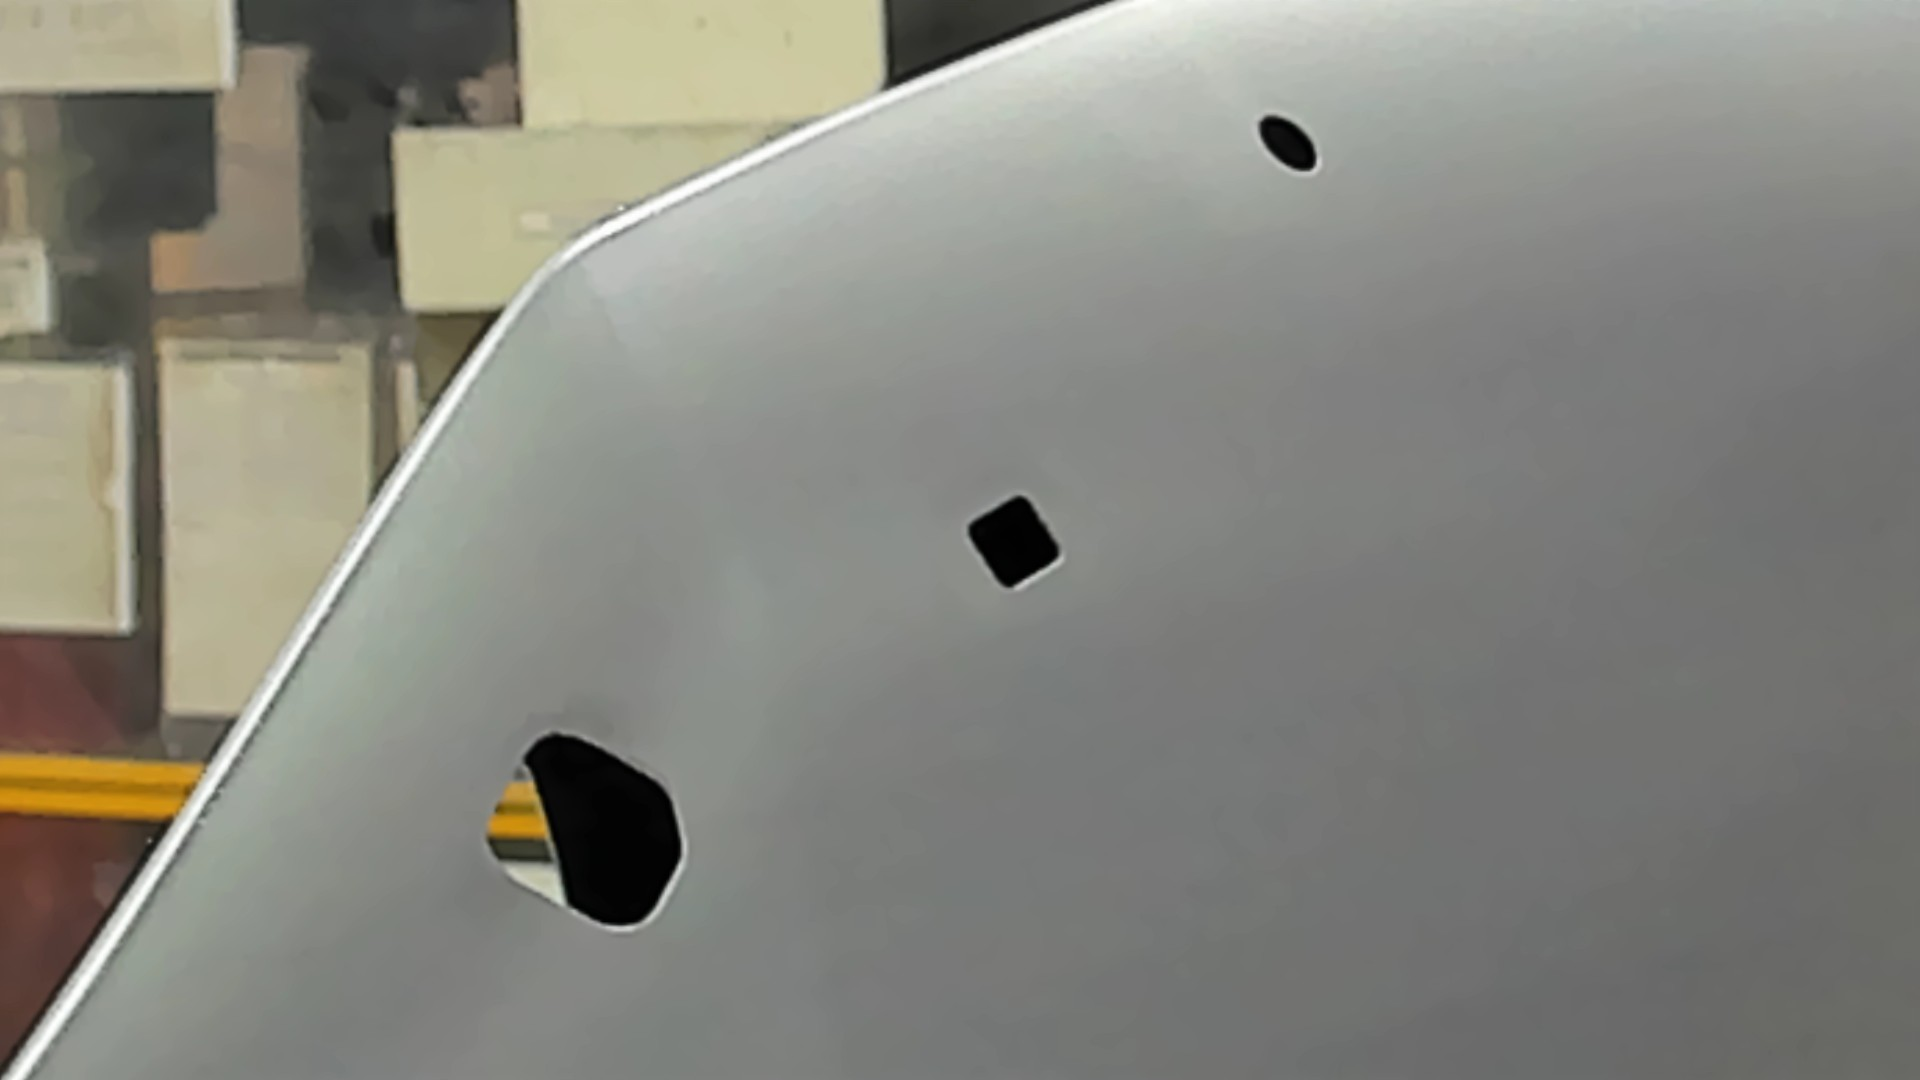chico: (1251, 109, 1327, 181)
grande: (476, 727, 694, 940)
mediano: (964, 491, 1068, 595)
